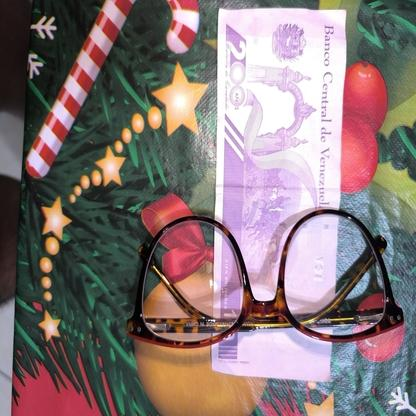vef_back: (210, 7, 346, 382)
